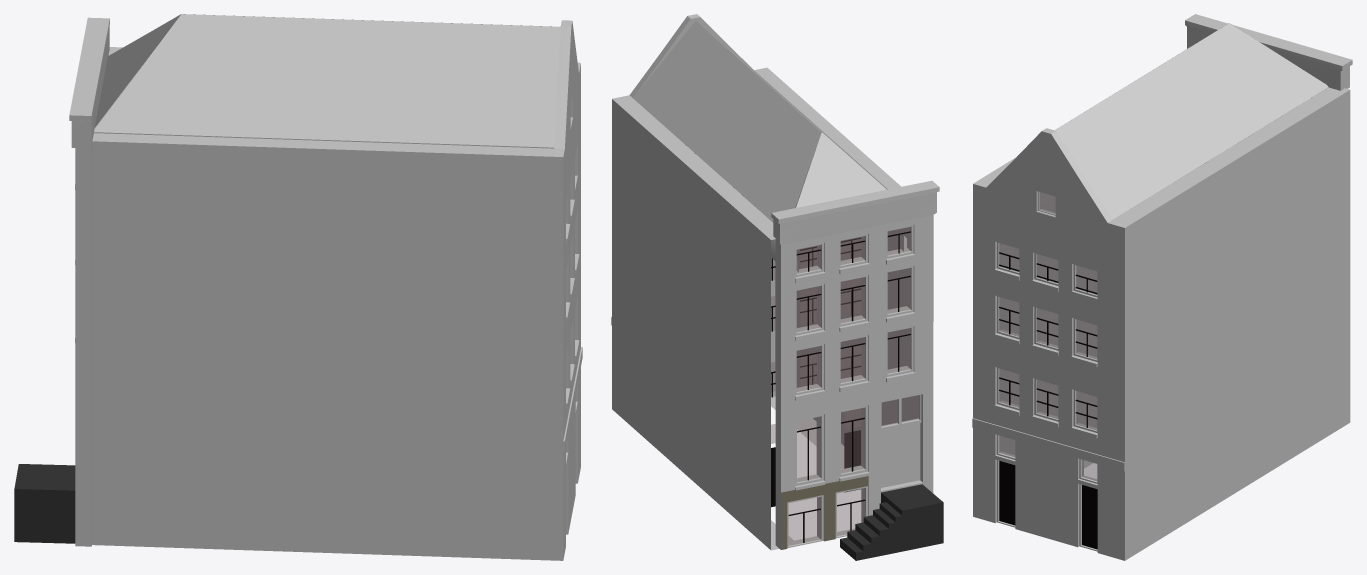
The model's file is fragment_002.obj.
3 renders of one model, left to right at view 1: azimuth 30°, elevation 25°; view 2: azimuth 150°, elevation 25°; view 3: azimuth 270°, elevation 25°, orthographic. The views are drawn at different scales.
Parts seen in each view (by area): view 1: test_model; view 2: test_model; view 3: test_model.
Part boxes in pixels (x1,y1,x2,y2): test_model: (14, 14, 582, 560); test_model: (611, 14, 943, 560); test_model: (972, 14, 1352, 560).
Size of the model in its own units: 17.13 by 16.19 by 13.69.
